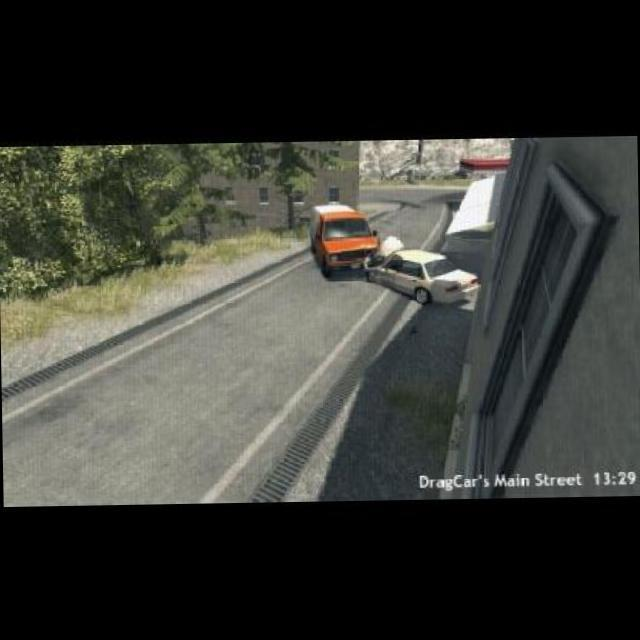accident: (300, 201, 480, 318)
